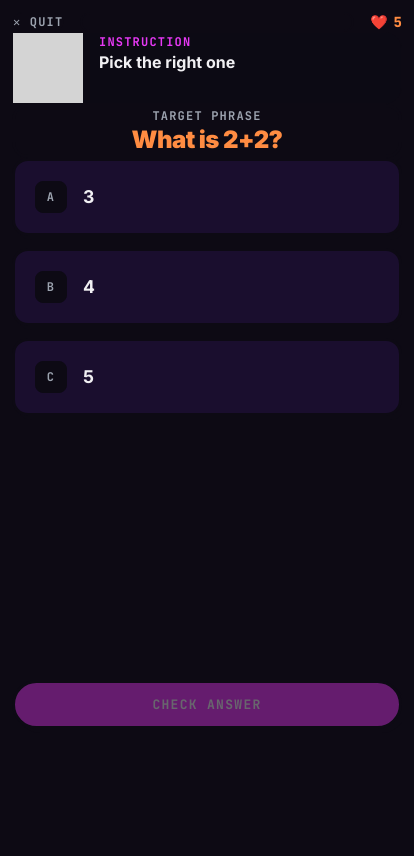
Test case: LessonRunner — multiple choice › shows incorrect feedback for wrong answer
What coordinates should you click on to do the following:
click the text "3"
I would click on:
 (89, 196)
Its box is [83,186,94,207].
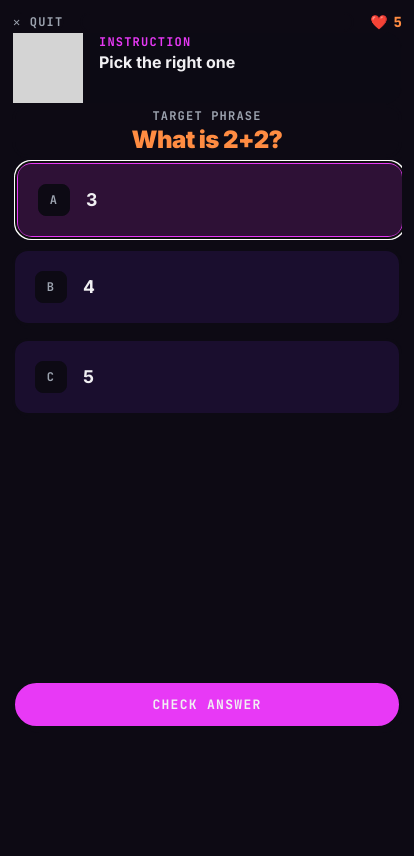
What coordinates should you click on to do the following:
click the button "CHECK ANSWER"
I would click on:
 (207, 705)
Its box is [12,680,402,729].
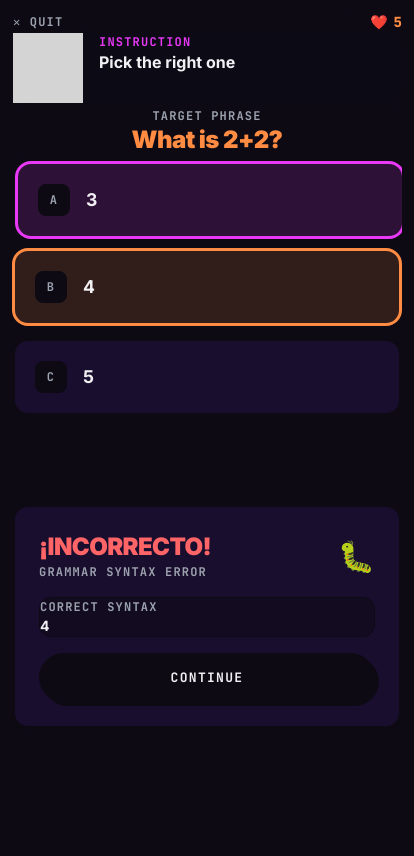
Check: the heading "¡INCORRECTO!" is shown, box [39,531,211,563]
